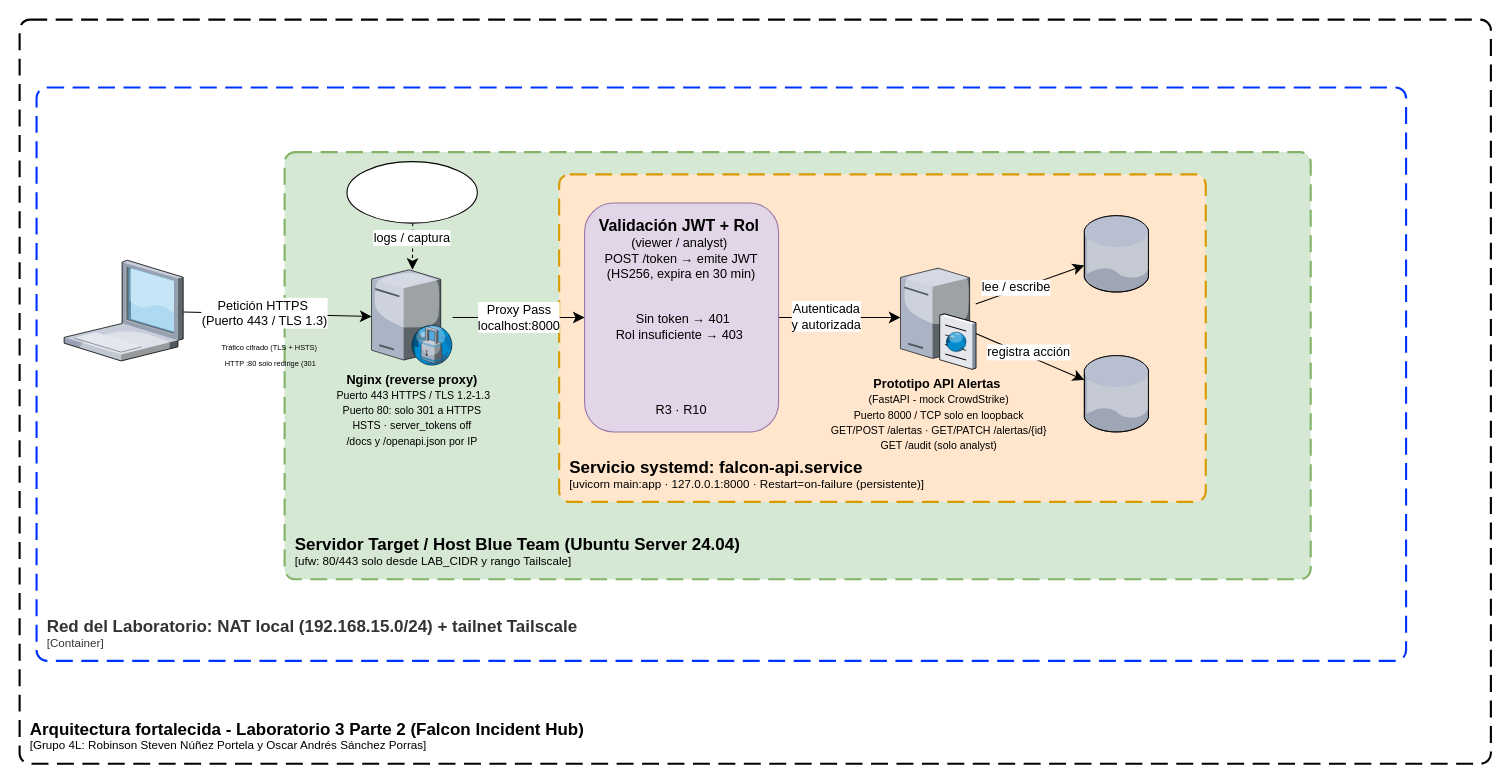
This 1509x782 diagram has some shape labels left out. Here are the shapes that lost their labels. From the top down, the centre of each, then its label:
At (411,192): "Blue Team (logs / tcpdump)".
At (1116,253): "D1: Memoria(alertas)".
At (123,310): "Kali Linux (Red Team) Herramientas: Nmap, curl, ZAP".
At (1116,393): "D3: Audit Log usuario + acción + timestamp".
